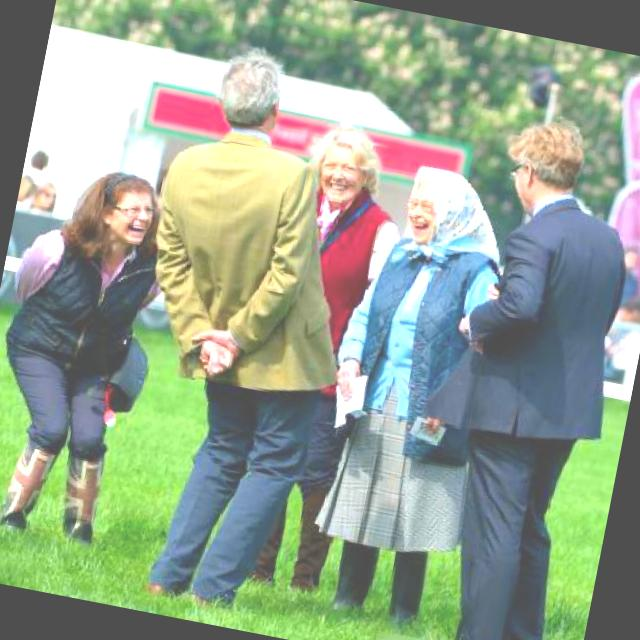Person: (288, 141, 533, 640), (0, 134, 209, 606)
